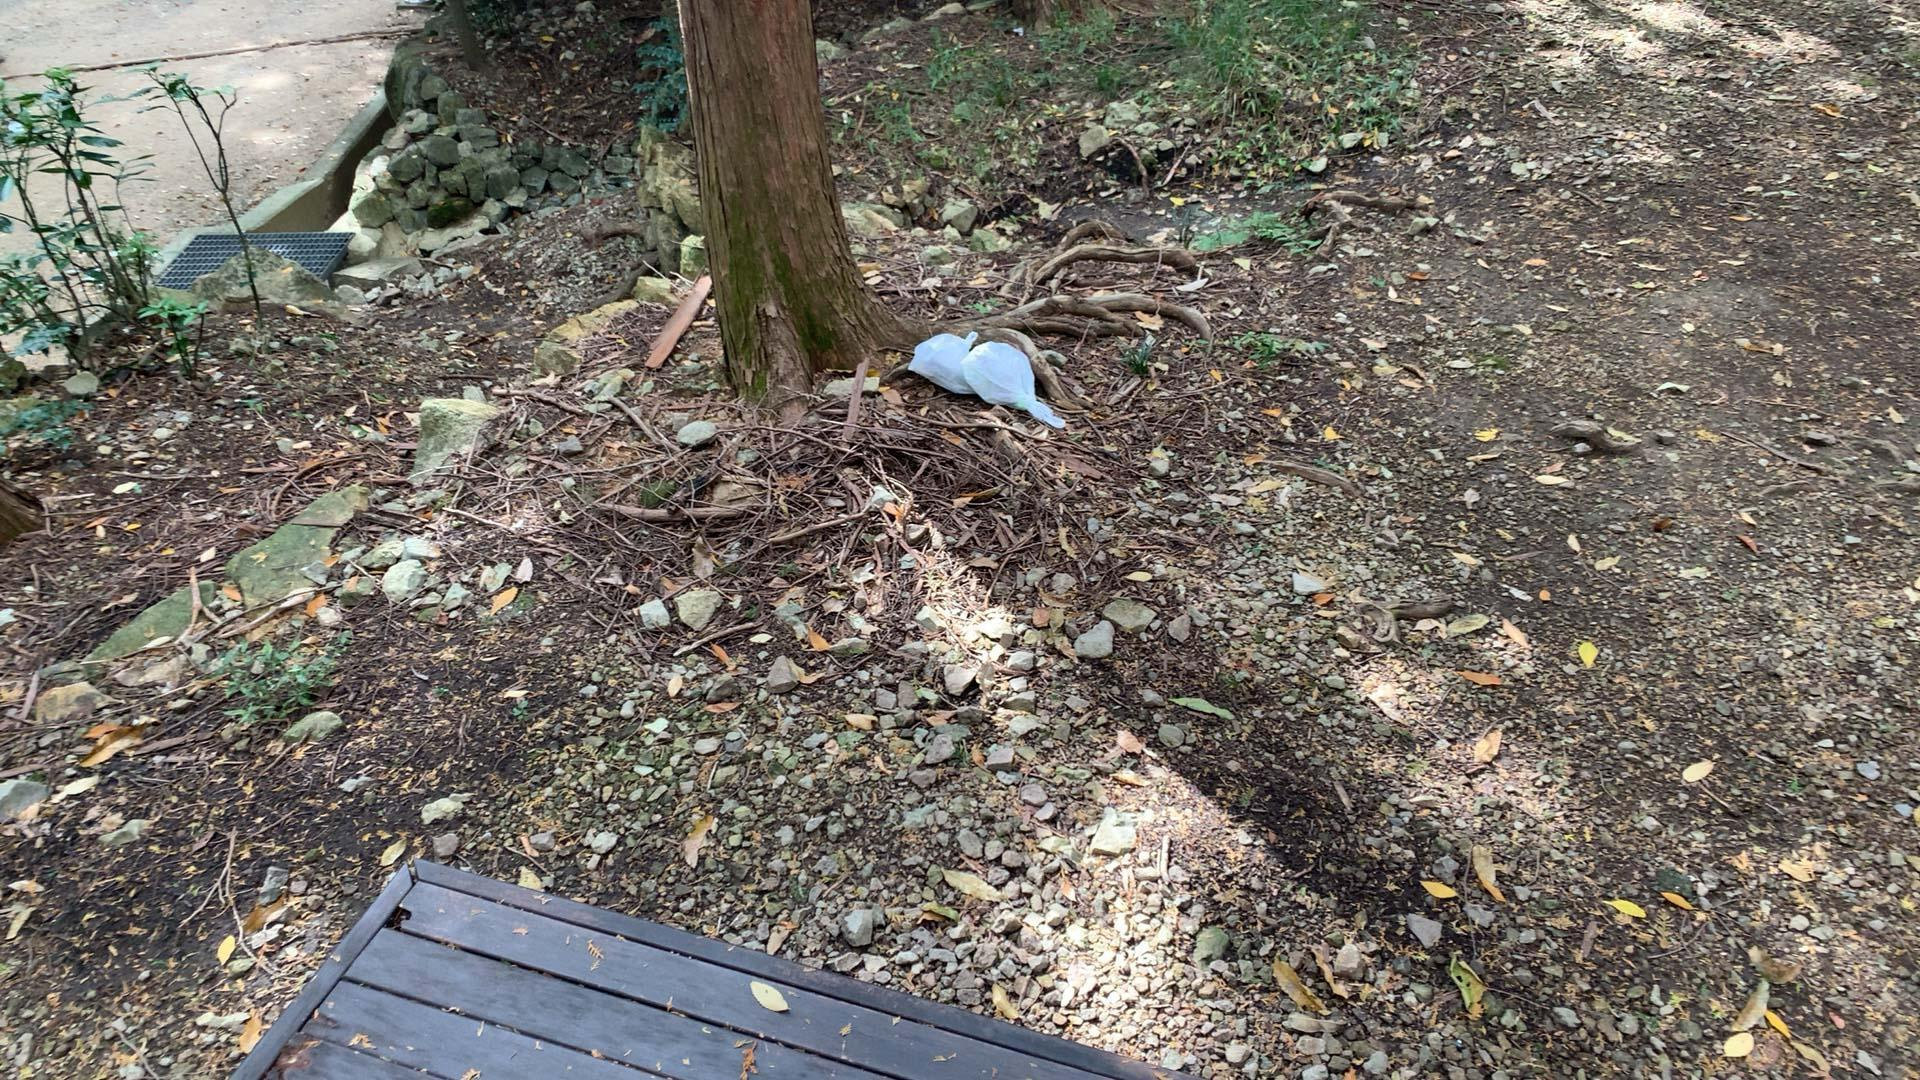white_bag: (955, 340, 1065, 431), (903, 324, 981, 397)
